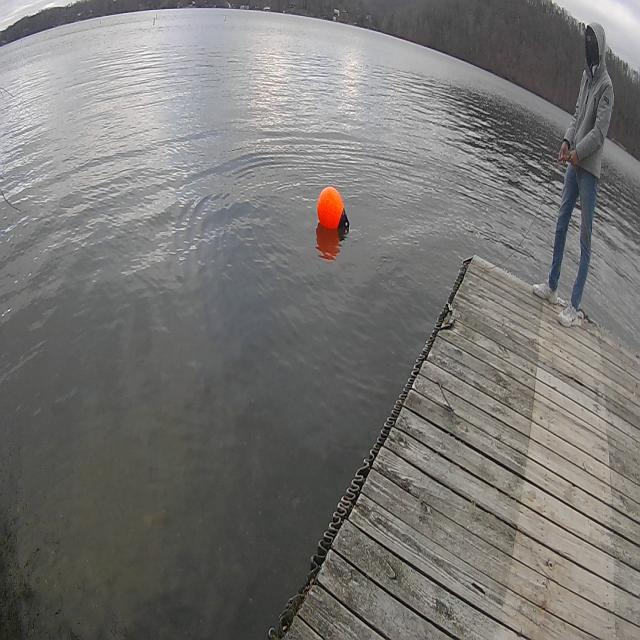Buoy: (314, 182, 349, 245)
